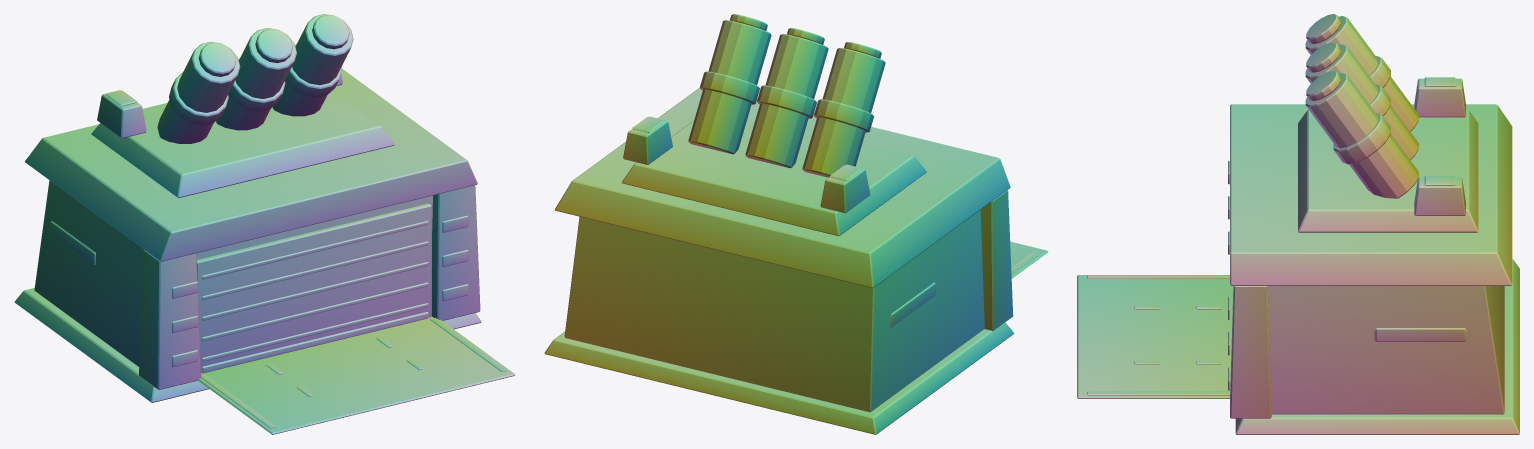
Rendered from factory_mortar_rig.glb.
The picture shows the model from 3 angles, left to right: view 1: azimuth 30°, elevation 25°; view 2: azimuth 150°, elevation 25°; view 3: azimuth 270°, elevation 25°; orthographic projection. The views are drawn at different scales.
Visible parts, largest first — view 1: body, door; view 2: body; view 3: body.
Boxes of the visible parts, left/top/right/bottom form: body: left=14, top=14, right=515, bottom=434; door: left=196, top=203, right=431, bottom=373; body: left=544, top=14, right=1048, bottom=434; body: left=1077, top=14, right=1519, bottom=434.
Size of the model in its own units: 15.16 by 13.05 by 17.08.
